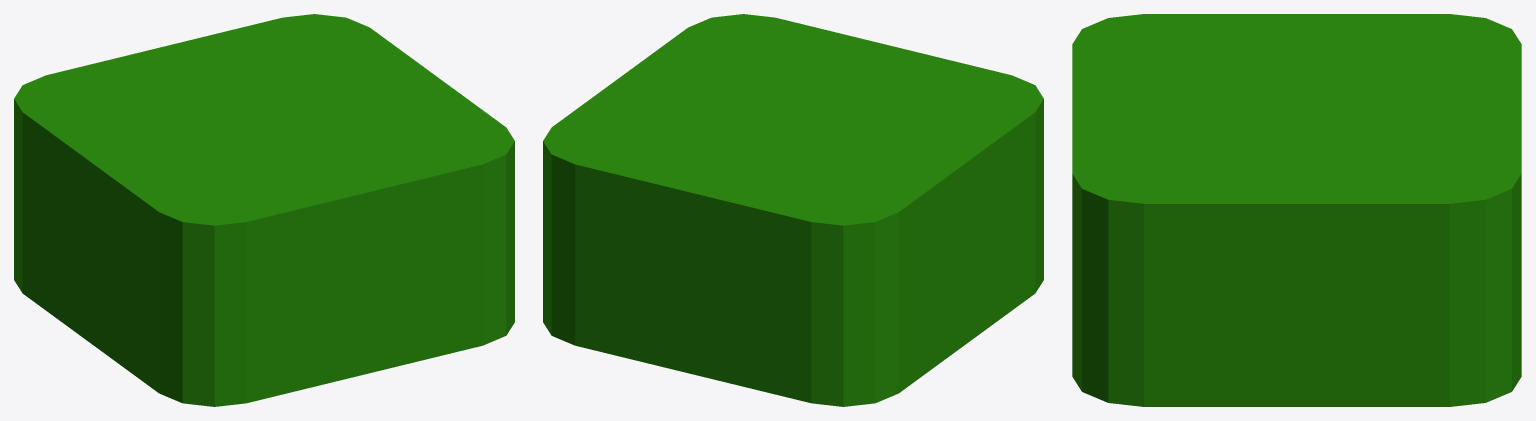
The model's file is HikeGardenGrassBlockB.obj.
3 renders of one model, left to right at view 1: azimuth 30°, elevation 25°; view 2: azimuth 150°, elevation 25°; view 3: azimuth 270°, elevation 25°, orthographic. The views are drawn at different scales.
Visible parts, largest first — view 1: Plane.004_Plane.000; view 2: Plane.004_Plane.000; view 3: Plane.004_Plane.000.
Part boxes in pixels (x1,y1,x2,y2): Plane.004_Plane.000: [14, 14, 514, 406]; Plane.004_Plane.000: [543, 14, 1043, 406]; Plane.004_Plane.000: [1072, 14, 1521, 406].
Bounding box in the file's own units: 1000 × 499 × 1000.
1 material, 1 textured.
